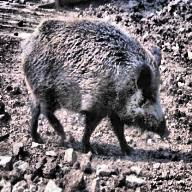boar: (12, 5, 170, 168)
